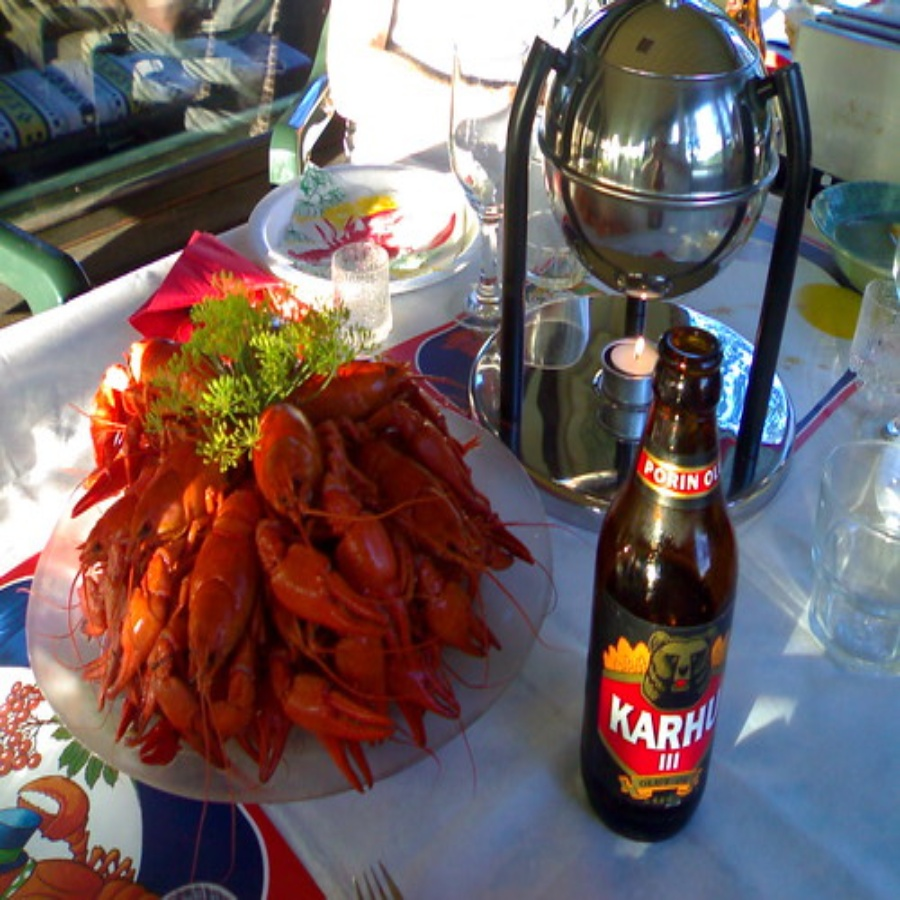beer: (559, 337, 752, 840)
